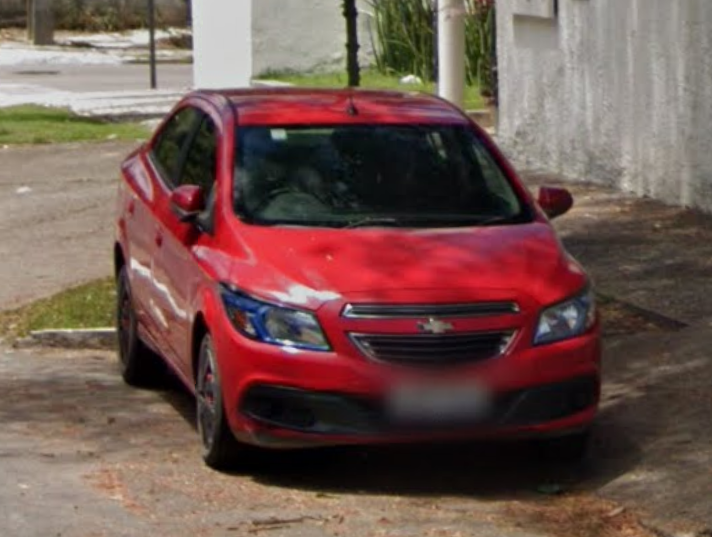car: (108, 58, 618, 480)
